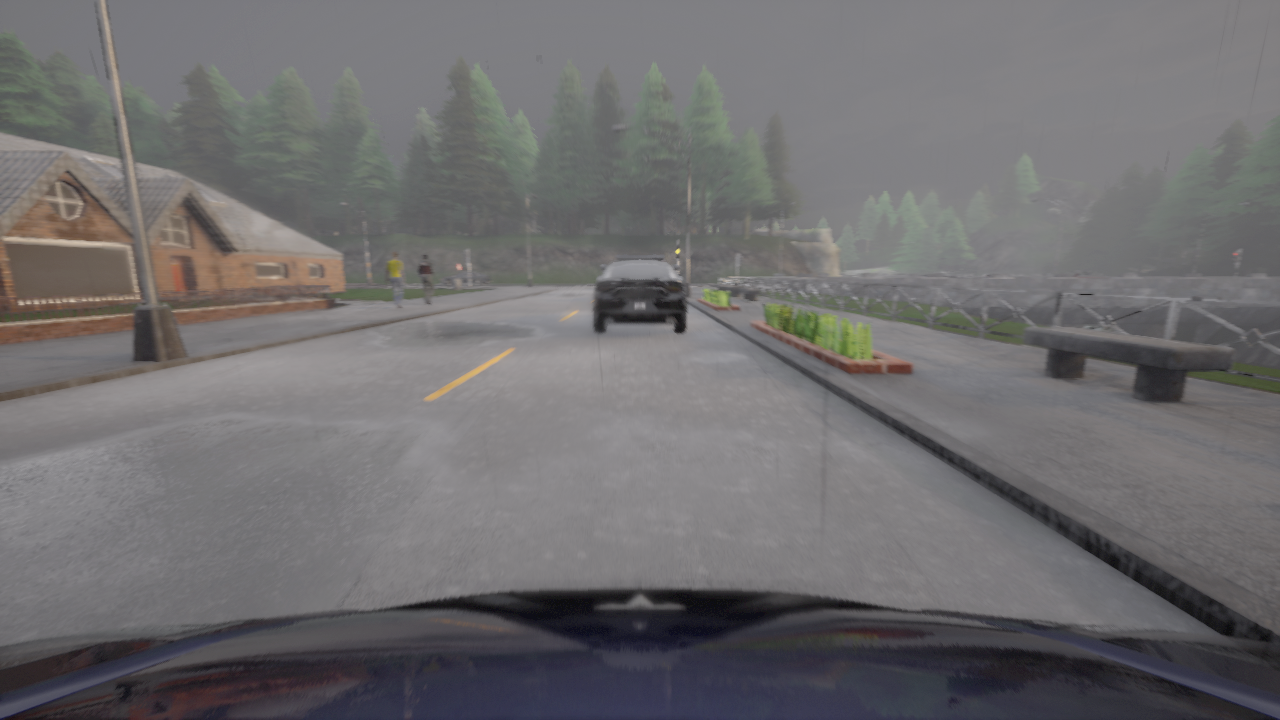cyclist: (0, 588, 1279, 719), (593, 255, 686, 331), (441, 271, 491, 285), (917, 271, 972, 277), (1067, 271, 1109, 277)
pedestrian: (386, 251, 403, 308), (417, 254, 434, 304), (986, 274, 988, 277)
